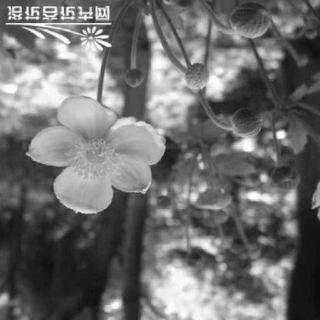other: (65, 137, 117, 185)
